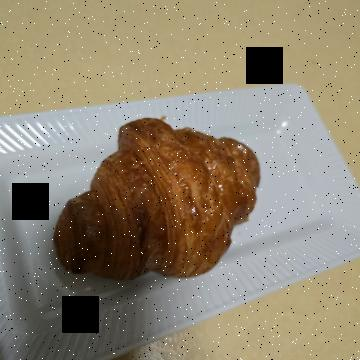croissant: (109, 82, 302, 311)
